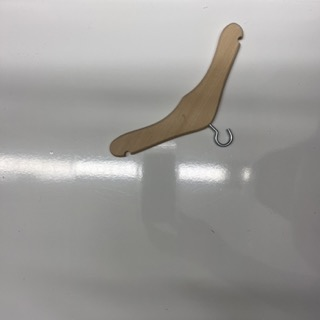rack: (109, 23, 244, 158)
